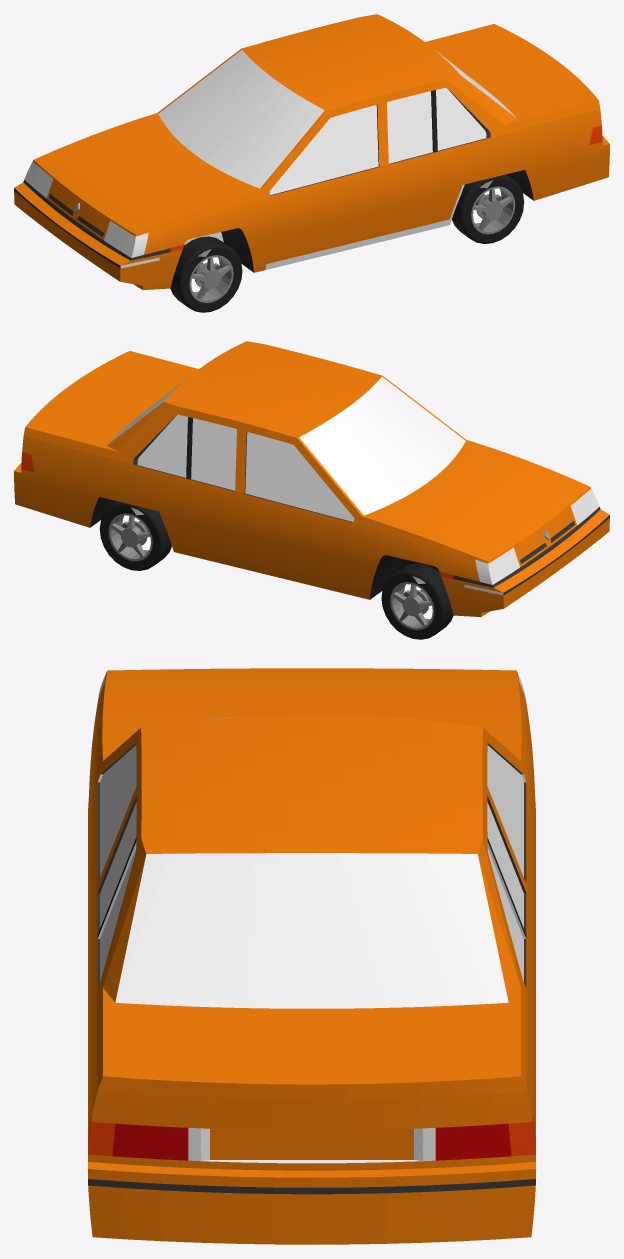
The model's file is protonSagaPetit.DAE.
The picture shows the model from 3 angles, top to bottom: view 1: azimuth 30°, elevation 25°; view 2: azimuth 150°, elevation 25°; view 3: azimuth 270°, elevation 25°; orthographic projection. The views are drawn at different scales.
Visible parts, largest first — view 1: body, Group_005, Group_009; view 2: body, Group_007, Group_011; view 3: body.
Boxes of the visible parts, bbox=[...] form: body: bbox=[14, 14, 609, 289]; Group_005: bbox=[170, 236, 242, 312]; Group_009: bbox=[452, 174, 524, 243]; body: bbox=[14, 341, 609, 616]; Group_007: bbox=[381, 563, 453, 639]; Group_011: bbox=[99, 501, 171, 570]; body: bbox=[88, 668, 535, 1244].
Size of the model in its own units: 18.64 by 5.97 by 7.24.
